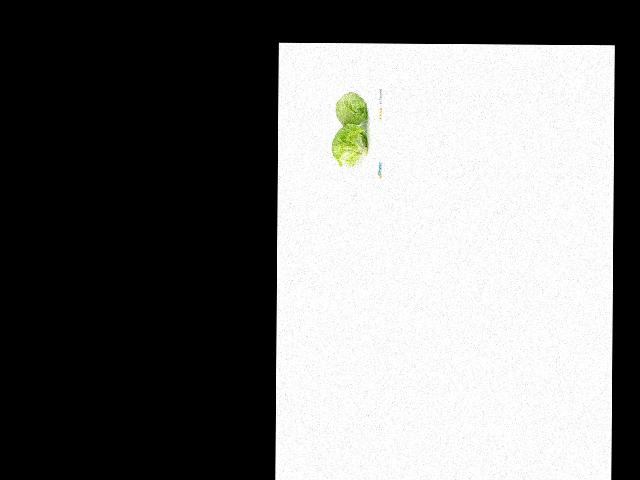lettuce: (335, 90, 374, 136)
